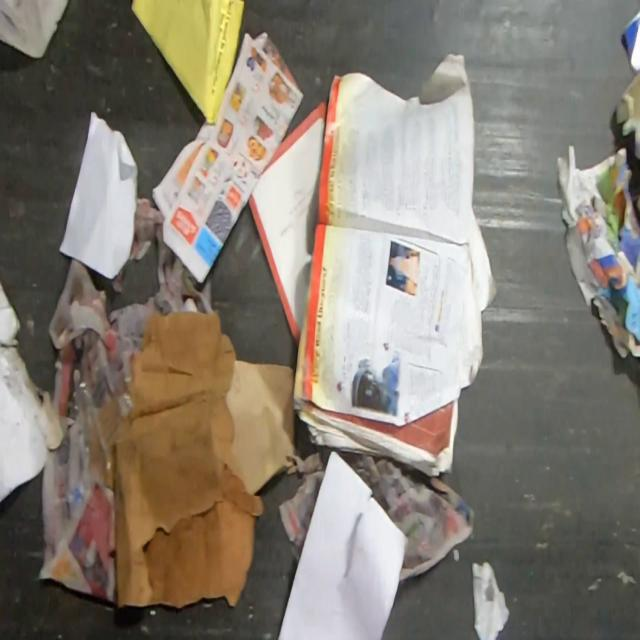cardboard: (0, 278, 77, 506)
rigid_plastic: (64, 361, 134, 514)
